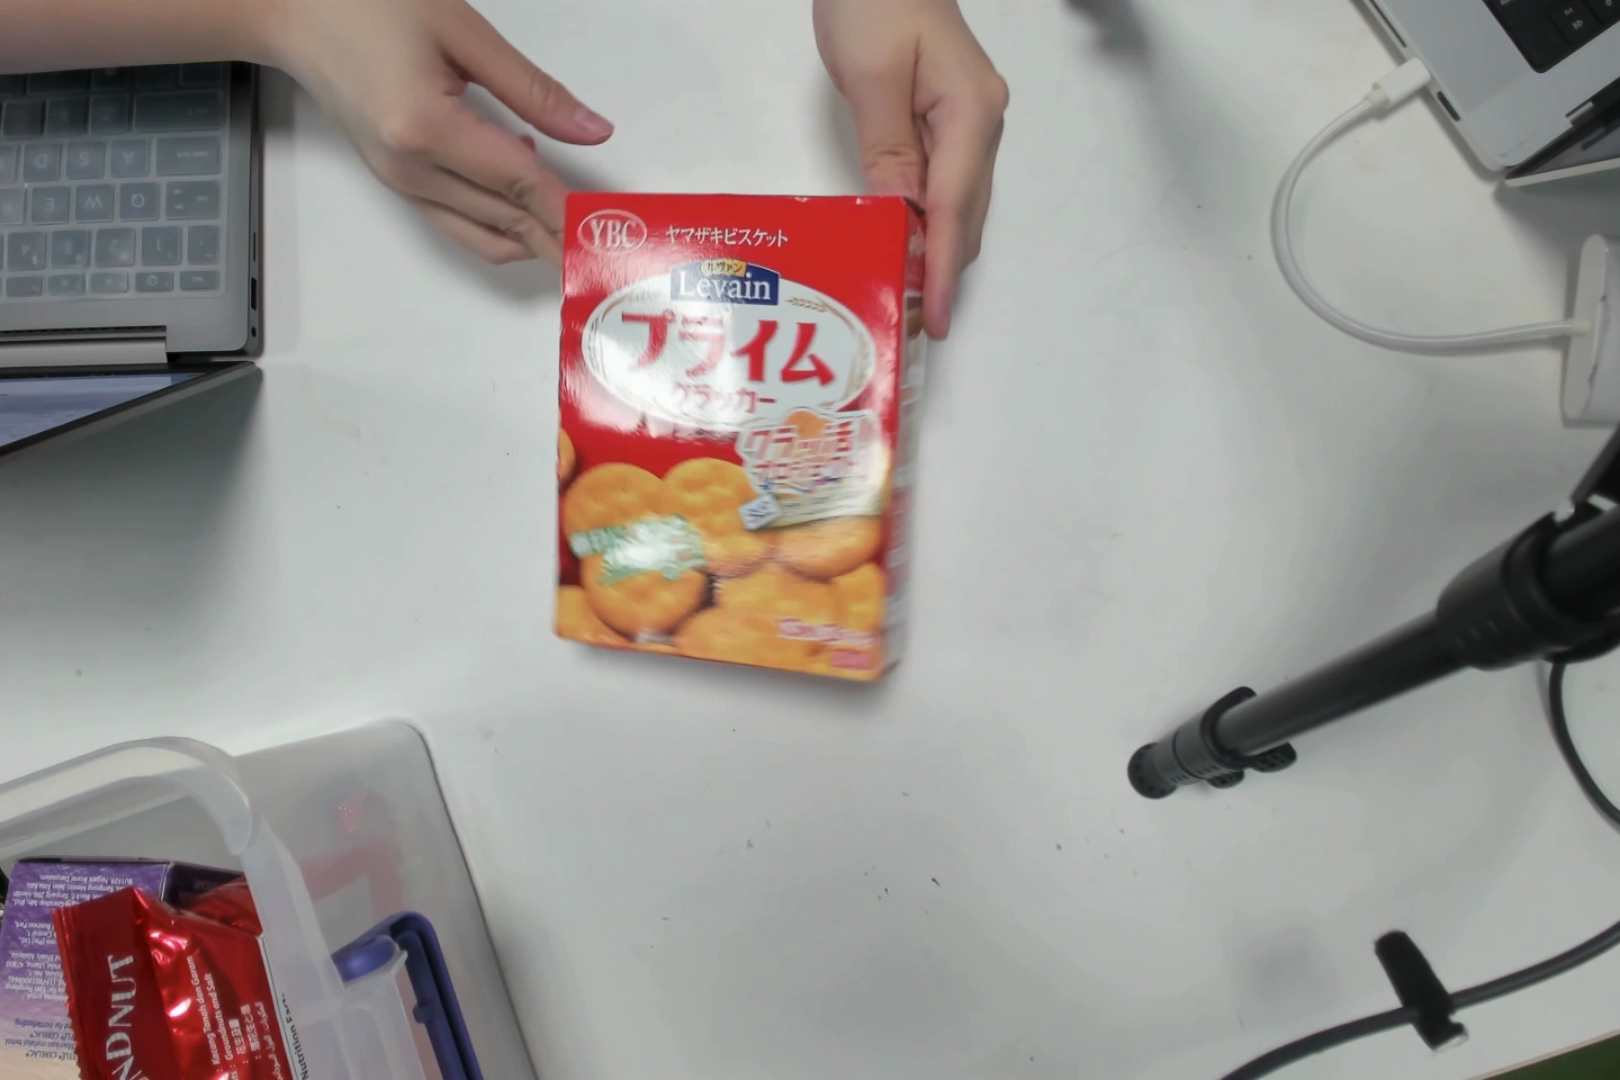c: (565, 196, 912, 681)
